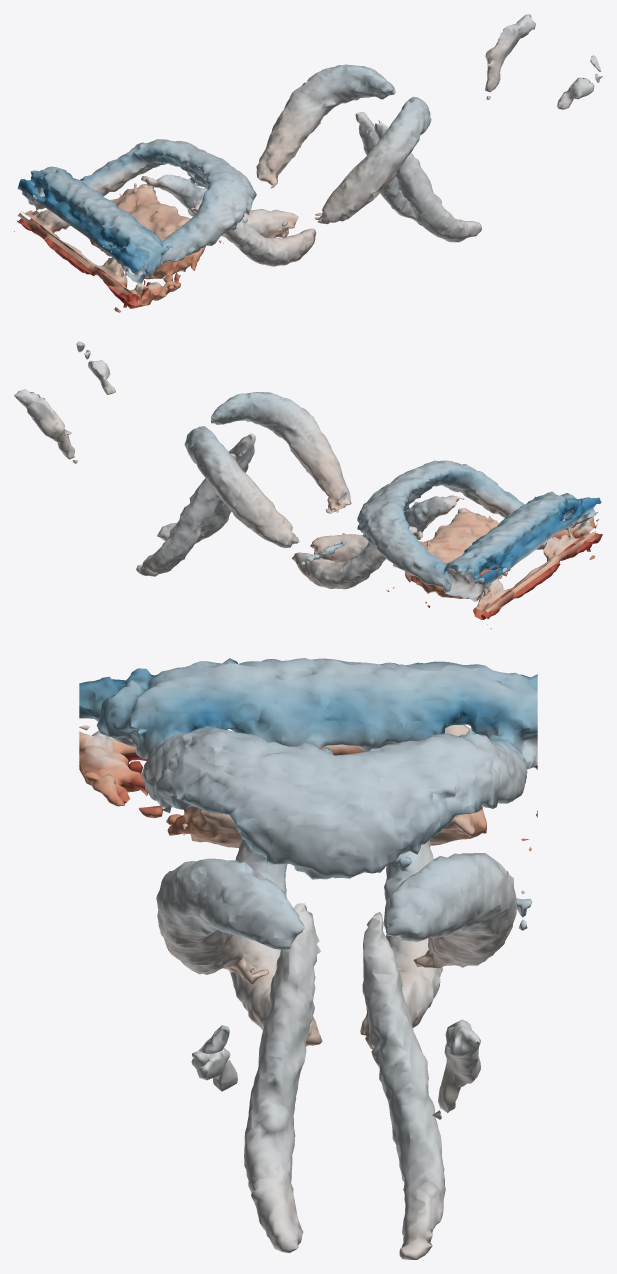
File: q085-full.glb
3 renders of one model, top to bottom at view 1: azimuth 30°, elevation 25°; view 2: azimuth 150°, elevation 25°; view 3: azimuth 270°, elevation 25°, orthographic. The views are drawn at different scales.
Bounding box in the file's own units: 6.32 × 2.09 × 2.54.
